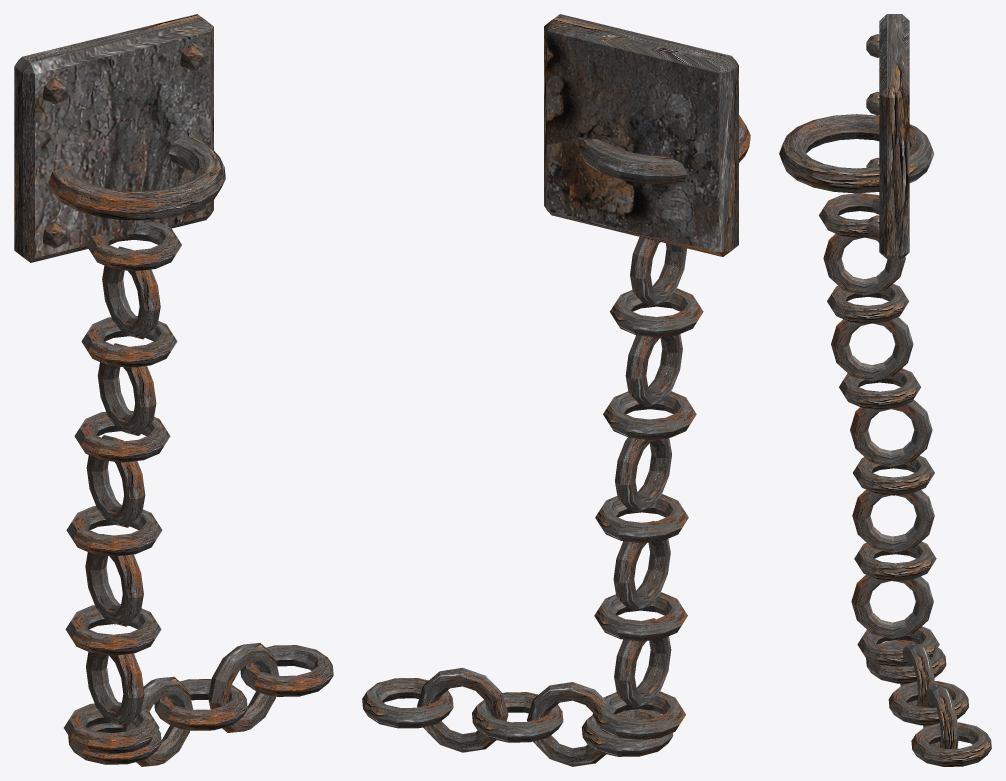
The model's file is chains-v01.glb.
3 renders of one model, left to right at view 1: azimuth 30°, elevation 25°; view 2: azimuth 150°, elevation 25°; view 3: azimuth 270°, elevation 25°, orthographic. The views are drawn at different scales.
Parts seen in each view (by area): view 1: chains; view 2: chains; view 3: chains.
Boxes of the visible parts, box(x1,y1,x2,y2) form: chains: box(14, 14, 333, 766); chains: box(362, 14, 750, 766); chains: box(779, 14, 991, 766).
Bounding box in the file's own units: 0.8963 × 1.88 × 0.5619.
2 materials, 2 textured.
